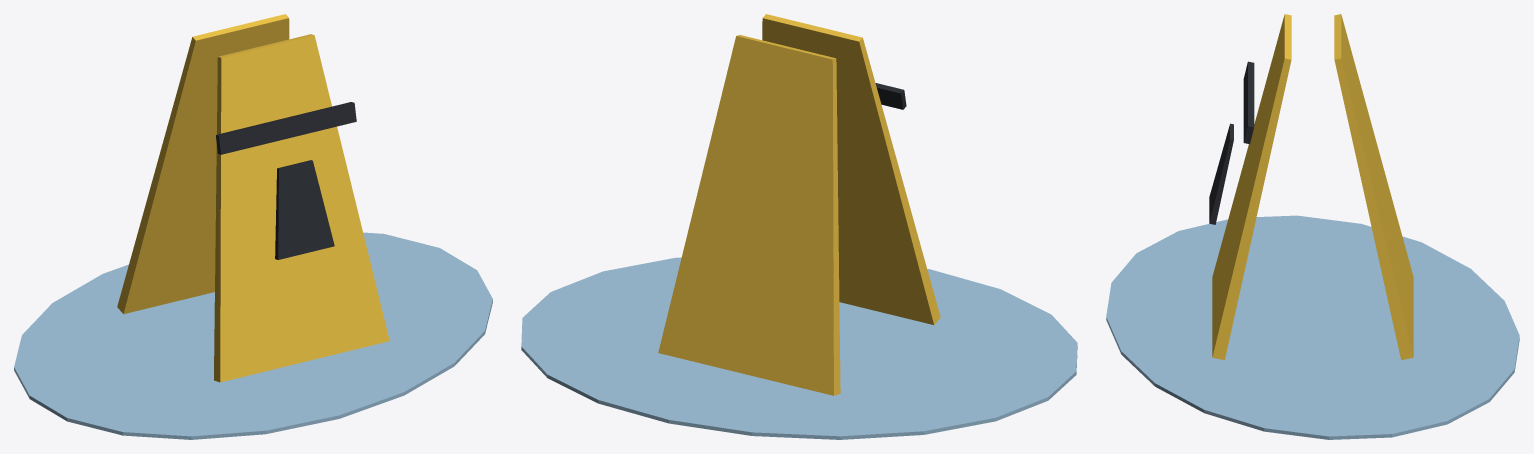
Rendered from wet_floor.glb.
3 views of the same model, side by side, from view 1: azimuth 30°, elevation 25°; view 2: azimuth 150°, elevation 25°; view 3: azimuth 270°, elevation 25° (orthographic). The views are drawn at different scales.
Parts seen in each view (by area): view 1: wet_floor_mesh; view 2: wet_floor_mesh; view 3: wet_floor_mesh.
Boxes of the visible parts, box(x1,y1,x2,y2) form: wet_floor_mesh: box(14, 14, 492, 439); wet_floor_mesh: box(521, 14, 1077, 439); wet_floor_mesh: box(1106, 14, 1519, 439).
Size of the model in its own units: 0.8207 by 0.5079 by 0.6491.
